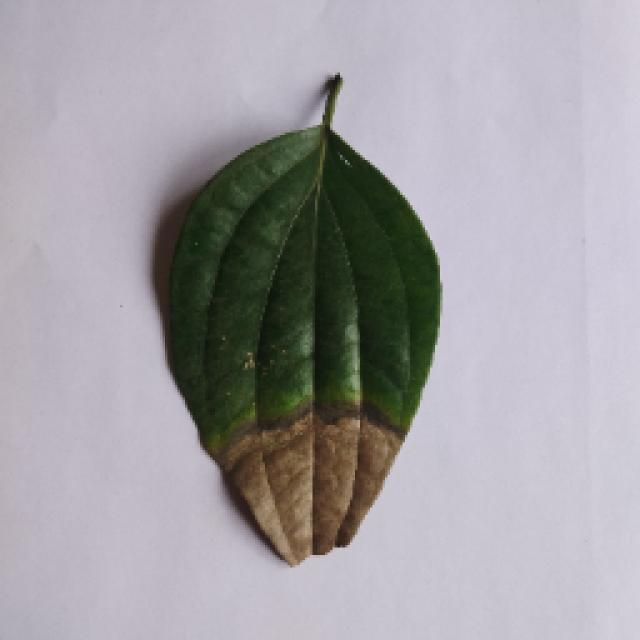footrot: (152, 72, 450, 560)
